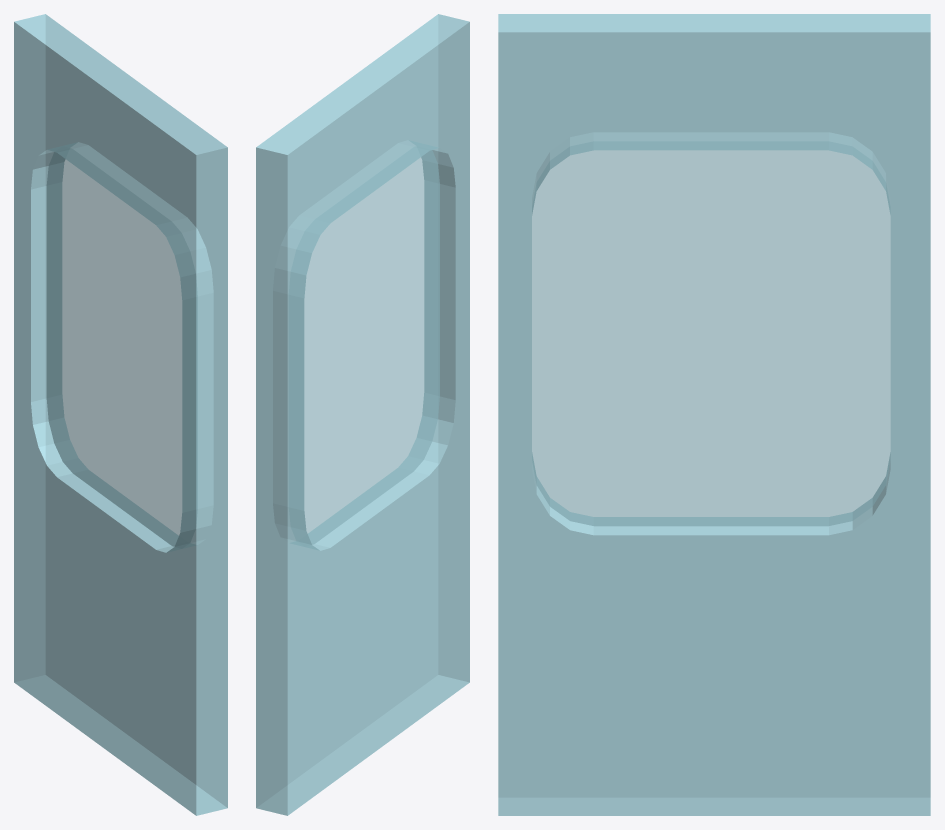
File: window_wall.fbx
3 views of the same model, side by side, from view 1: azimuth 30°, elevation 25°; view 2: azimuth 150°, elevation 25°; view 3: azimuth 270°, elevation 25° (orthographic). The views are drawn at different scales.
Parts seen in each view (by area): view 1: Plane; view 2: Plane; view 3: Plane.
Part boxes in pixels (box(x1,y1,x2,y2)): Plane: box(14, 14, 227, 815); Plane: box(256, 14, 469, 815); Plane: box(498, 14, 930, 815).
Bounding box in the file's own units: 10 × 200 × 100.
